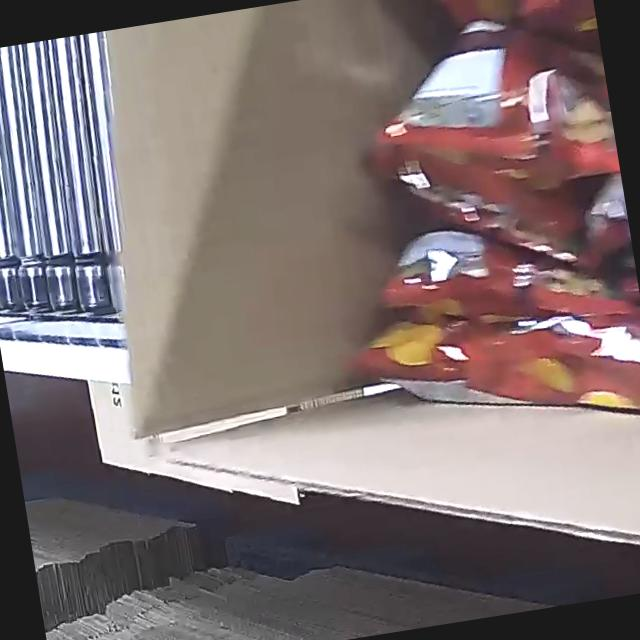masala: (291, 0, 640, 508)
